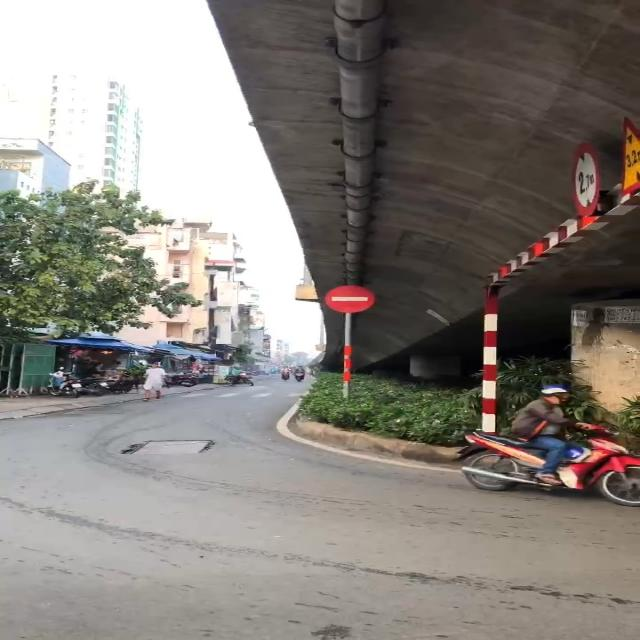Bien bao cam di nguoc chieu: (321, 280, 383, 316)
Bien bao han che chieu cao: (561, 141, 608, 216)
